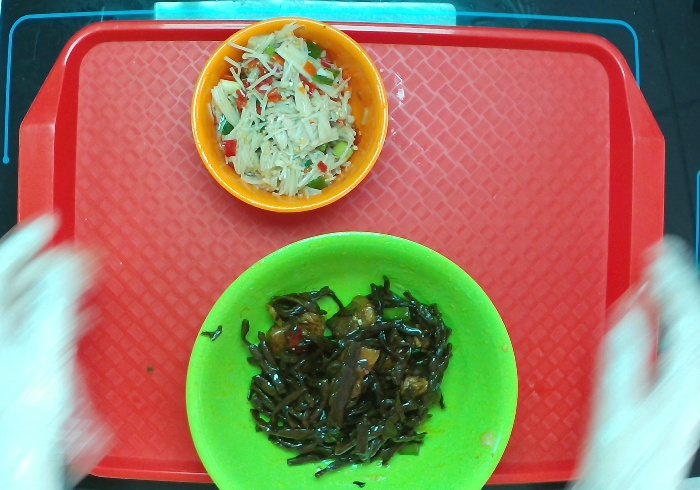YKMZ-Ju_Se_Yuan_Wan: (187, 12, 392, 219)
YKMZ-Lv_Se_Tang_Wan: (185, 231, 519, 490)
